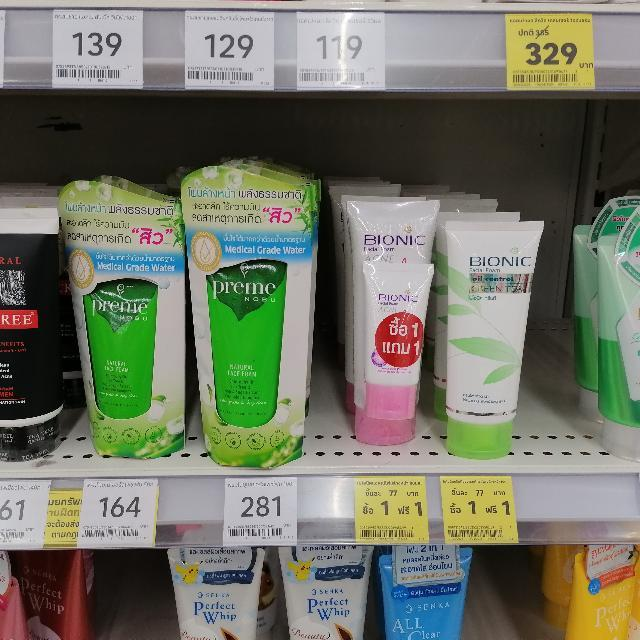Squeeze Tube: (187, 175, 322, 475), (78, 182, 184, 461), (348, 191, 438, 447), (454, 224, 541, 451), (0, 206, 72, 451)
